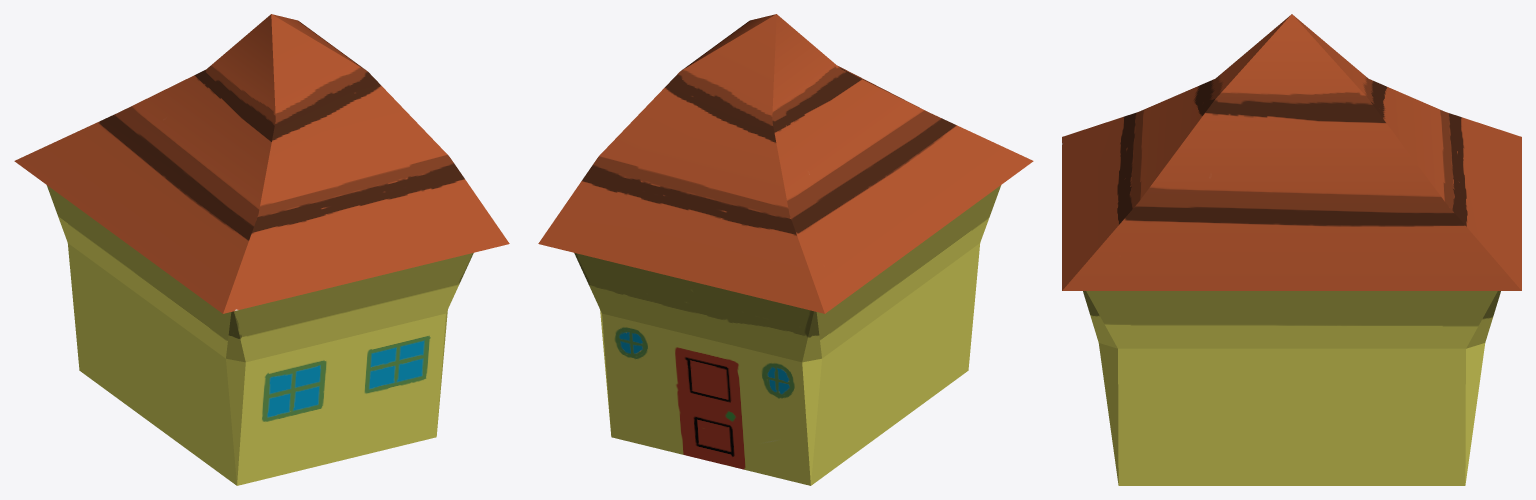
File: Cottage.fbx
3 views of the same model, side by side, from view 1: azimuth 30°, elevation 25°; view 2: azimuth 150°, elevation 25°; view 3: azimuth 270°, elevation 25° (orthographic). The views are drawn at different scales.
Visible parts, largest first — view 1: pPyramid2; view 2: pPyramid2; view 3: pPyramid2.
Boxes of the visible parts, box(x1,y1,x2,y2) form: pPyramid2: box(14, 14, 509, 485); pPyramid2: box(538, 14, 1033, 485); pPyramid2: box(1062, 14, 1521, 485).
Bounding box in the file's own units: 1221 × 1573 × 1540.
Materials: 1 (1 with a texture image).
